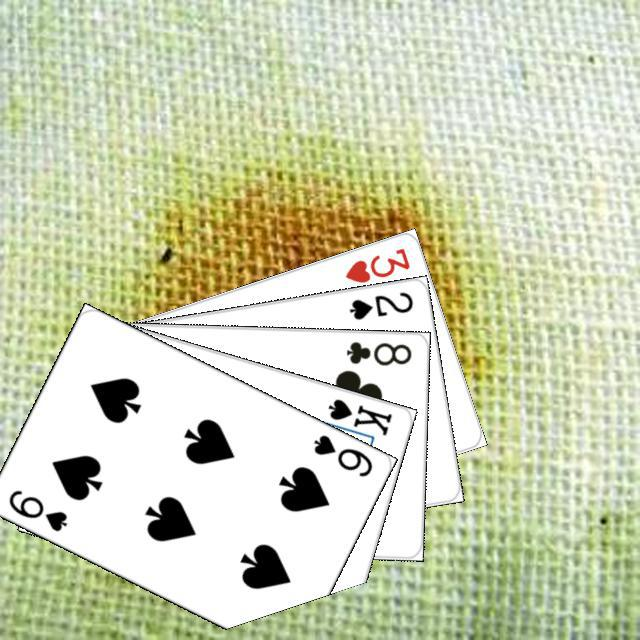2s: (344, 287, 415, 322)
3h: (340, 243, 412, 285)
6s: (308, 429, 375, 479), (3, 485, 69, 534)
8c: (341, 337, 413, 367)
Ks: (323, 394, 394, 438)
